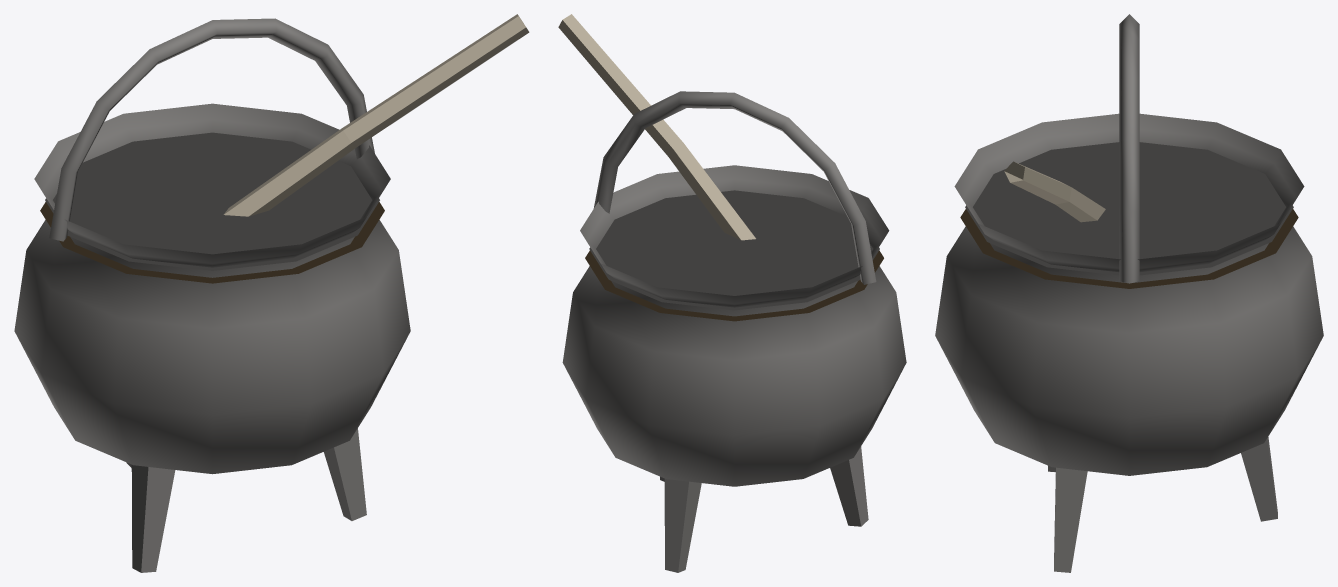
File: prop_inn_pot.glb
The picture shows the model from 3 angles, left to right: view 1: azimuth 30°, elevation 25°; view 2: azimuth 150°, elevation 25°; view 3: azimuth 270°, elevation 25°; orthographic projection. The views are drawn at different scales.
Parts seen in each view (by area): view 1: InnPotSoft, InnPot; view 2: InnPotSoft, InnPot; view 3: InnPotSoft, InnPot.
Part boxes in pixels (left/top/right/bottom): InnPotSoft: left=14, top=18, right=410, bottom=474; InnPot: left=126, top=14, right=529, bottom=572; InnPotSoft: left=562, top=91, right=906, bottom=486; InnPot: left=558, top=14, right=868, bottom=572; InnPotSoft: left=935, top=14, right=1323, bottom=475; InnPot: left=1004, top=161, right=1277, bottom=572.
Size of the model in its own units: 0.425 by 0.4724 by 0.34.
